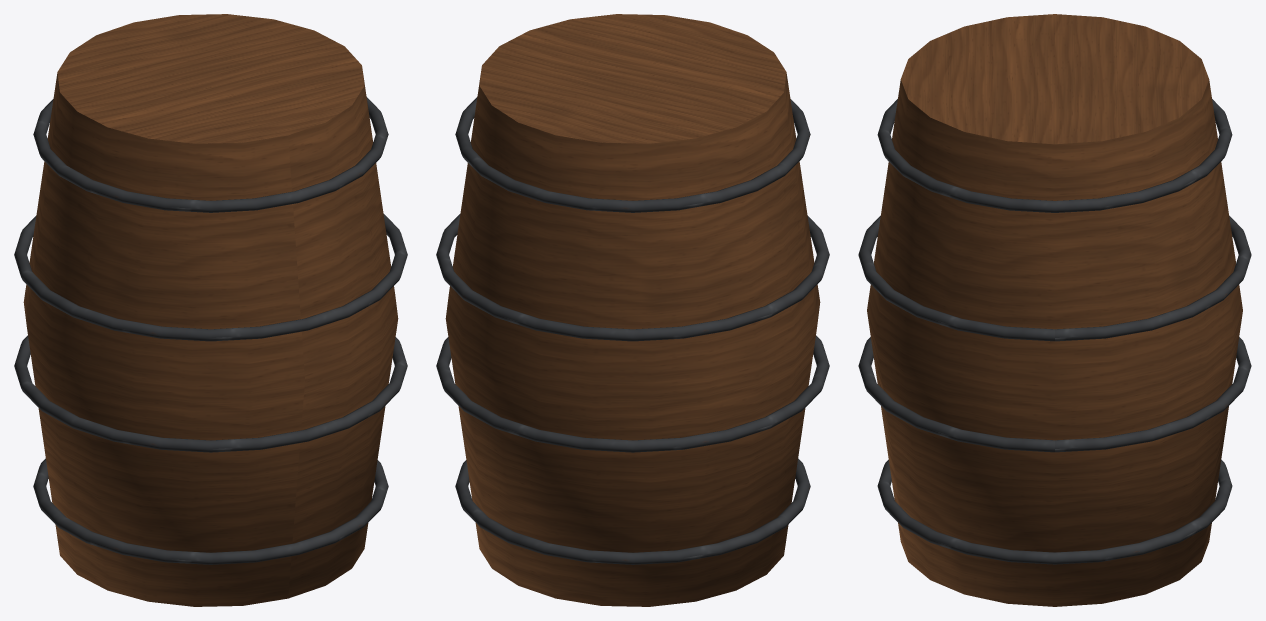
The model's file is barrel.glb.
3 renders of one model, left to right at view 1: azimuth 30°, elevation 25°; view 2: azimuth 150°, elevation 25°; view 3: azimuth 270°, elevation 25°, orthographic.
Visible parts, largest first — view 1: barrel; view 2: barrel; view 3: barrel.
Part boxes in pixels (x1,y1,x2,y2): barrel: (14,14,407,606); barrel: (436,14,829,606); barrel: (858,14,1251,606).
Bounding box in the file's own units: 0.7321 × 0.9502 × 0.7321.
Materials: 2 (2 with a texture image).
